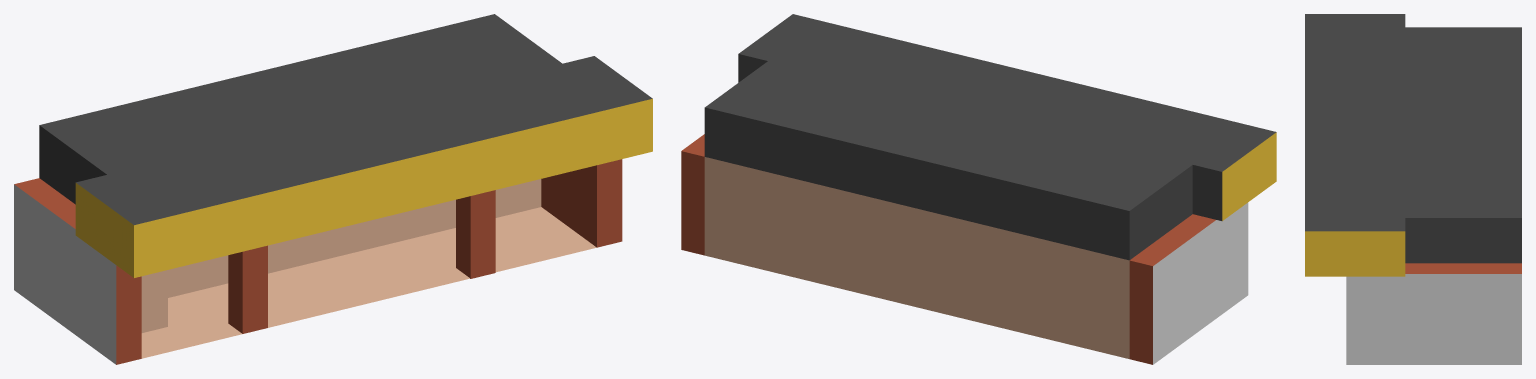
Rendered from marquise - Copy.glb.
3 views of the same model, side by side, from view 1: azimuth 30°, elevation 25°; view 2: azimuth 150°, elevation 25°; view 3: azimuth 270°, elevation 25° (orthographic). The views are drawn at different scales.
Visible parts, largest first — view 1: Cube.001; view 2: Cube.001; view 3: Cube.001.
Boxes of the visible parts, left/top/right/bottom form: Cube.001: left=14, top=14, right=652, bottom=364; Cube.001: left=681, top=14, right=1276, bottom=364; Cube.001: left=1305, top=14, right=1521, bottom=364.
Size of the model in its own units: 10.25 by 3.01 by 4.32.
